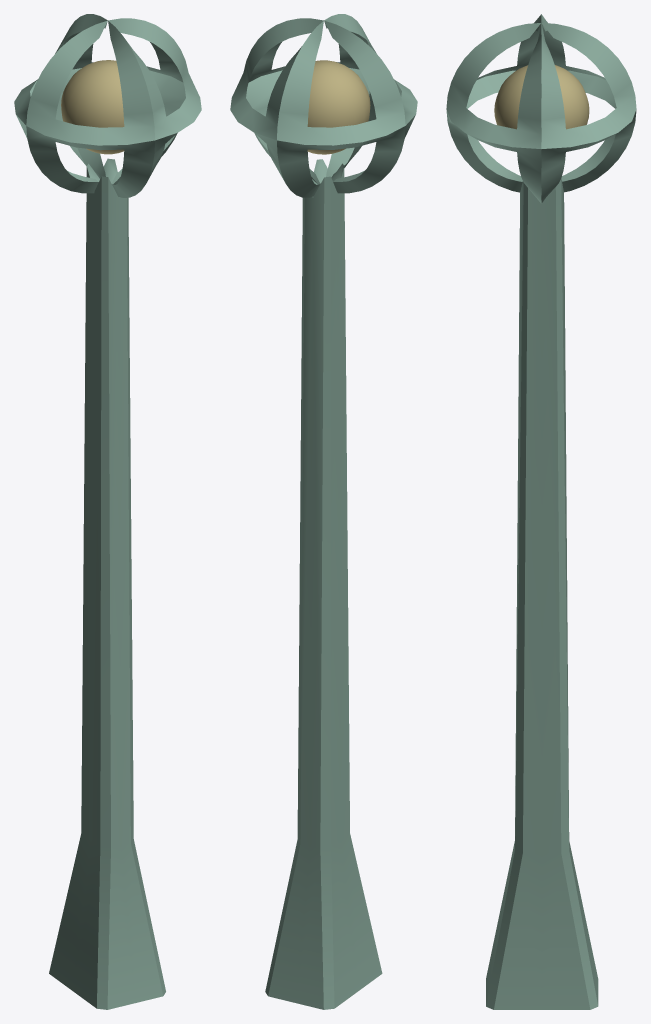
File: StupidStreetLamp.fbx
3 renders of one model, left to right at view 1: azimuth 30°, elevation 25°; view 2: azimuth 150°, elevation 25°; view 3: azimuth 270°, elevation 25°, orthographic.
Visible parts, largest first — view 1: StupidStreetLamp; view 2: StupidStreetLamp; view 3: StupidStreetLamp.
Boxes of the visible parts, x1,y1,x2,y2 form: StupidStreetLamp: [14, 14, 201, 1009]; StupidStreetLamp: [230, 14, 417, 1009]; StupidStreetLamp: [446, 14, 636, 1009].
Size of the model in its own units: 216 by 1217 by 216.
